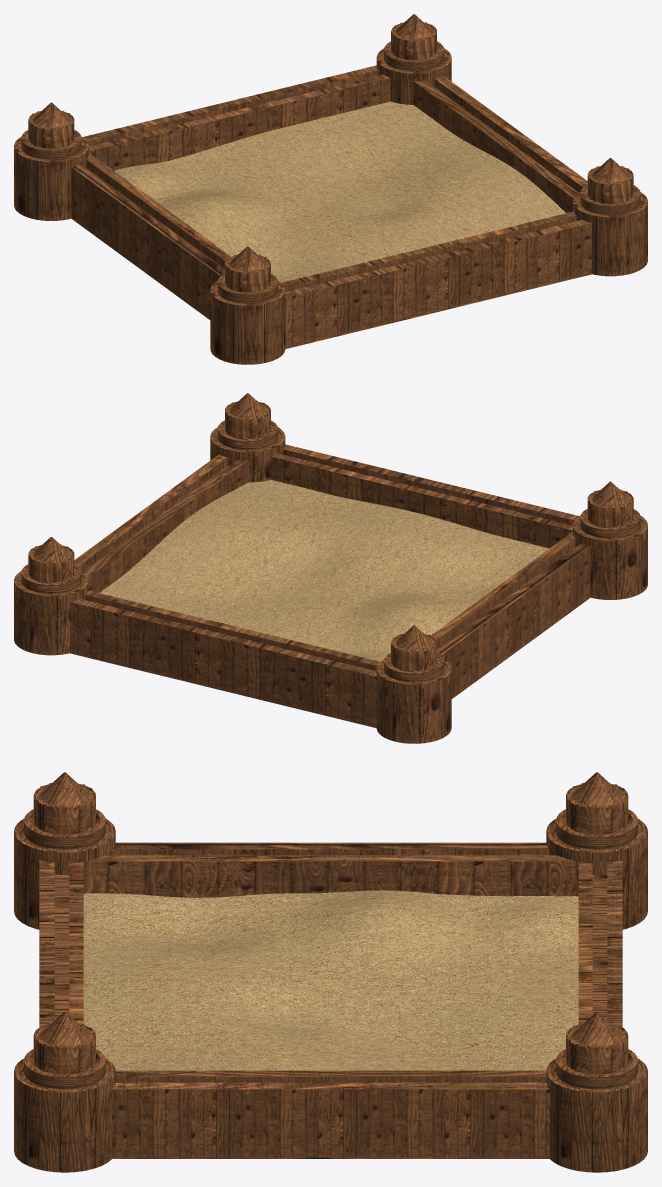
File: sandpit.fbx
The picture shows the model from 3 angles, top to bottom: view 1: azimuth 30°, elevation 25°; view 2: azimuth 150°, elevation 25°; view 3: azimuth 270°, elevation 25°; orthographic projection. The views are drawn at different scales.
Parts seen in each view (by area): view 1: Cube, Cube.001, Cylinder.003, Cylinder.004, Cylinder.002, Cylinder.001; view 2: Cube, Cube.001, Cylinder.004, Cylinder.003, Cylinder.001, Cylinder.002; view 3: Cube.001, Cube, Cylinder.001, Cylinder.002, Cylinder.004, Cylinder.003.
Boxes of the visible parts, x1,y1,x2,y2 form: Cube: (71,65,591,348); Cube.001: (114,101,565,282); Cylinder.003: (210,246,285,364); Cylinder.004: (14,102,88,220); Cylinder.002: (573,158,647,276); Cylinder.001: (376,14,451,104); Cube: (70,444,590,727); Cube.001: (99,480,549,661); Cylinder.004: (376,625,451,743); Cylinder.003: (573,481,647,599); Cylinder.001: (14,537,88,655); Cylinder.002: (210,393,285,482); Cube.001: (83,890,578,1070); Cube: (39,842,622,1158); Cylinder.001: (546,1012,647,1172); Cylinder.002: (14,1012,115,1172); Cylinder.004: (546,772,647,929); Cylinder.003: (14,772,115,929).
Bounding box in the file's own units: 3168 × 725 × 3001.
